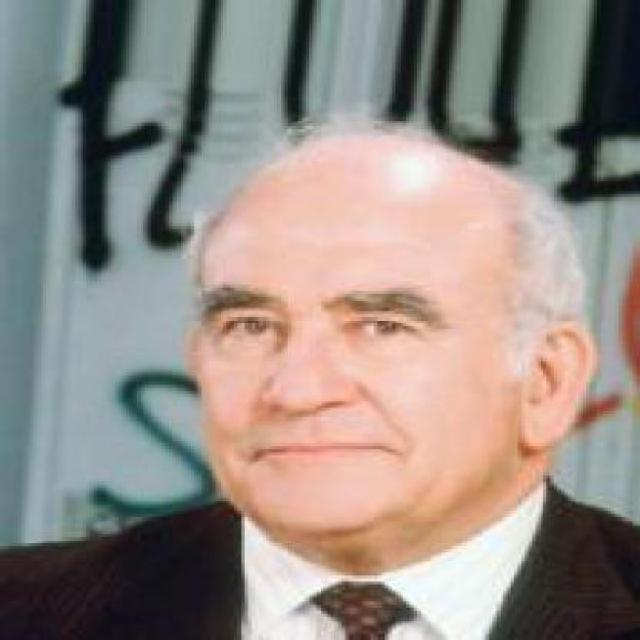closed-mouth: (248, 424, 402, 472)
